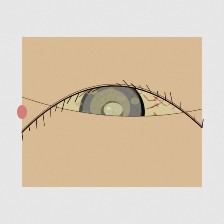corneal_ulcer: (78, 82, 143, 134)
